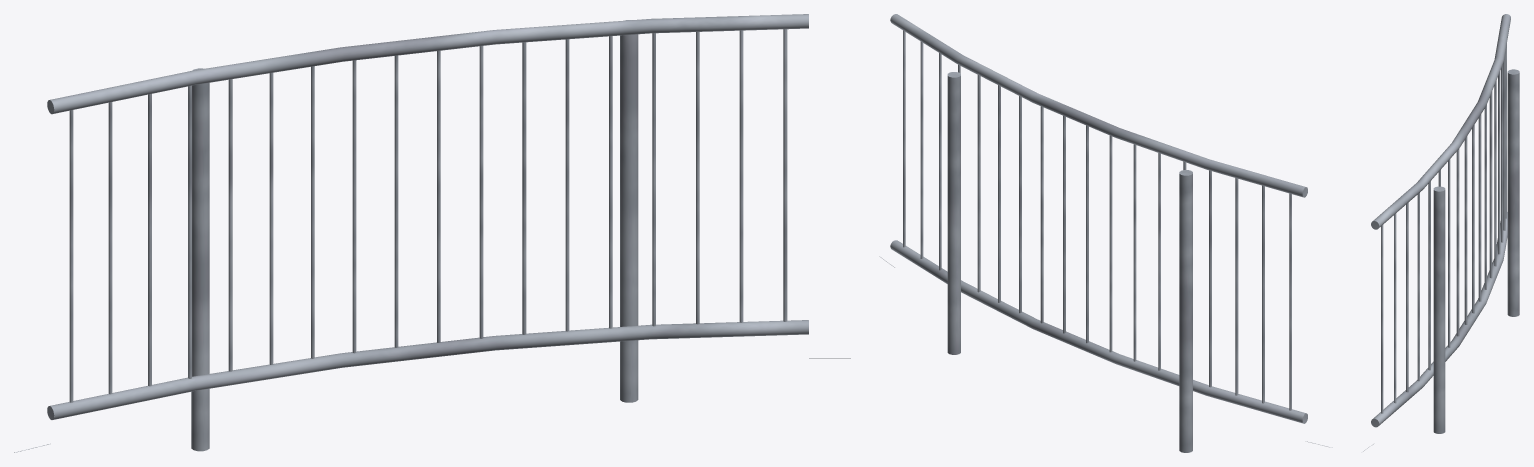
File: gelaender-sger-150.gltf
3 views of the same model, side by side, from view 1: azimuth 30°, elevation 25°; view 2: azimuth 150°, elevation 25°; view 3: azimuth 270°, elevation 25° (orthographic). The views are drawn at different scales.
Visible parts, largest first — view 1: SK1545_Geländer-SGER-150.001; view 2: SK1545_Geländer-SGER-150.001; view 3: SK1545_Geländer-SGER-150.001.
Part boxes in pixels (bbox=[...]): SK1545_Geländer-SGER-150.001: bbox=[14, 14, 850, 452]; SK1545_Geländer-SGER-150.001: bbox=[879, 14, 1332, 452]; SK1545_Geländer-SGER-150.001: bbox=[1361, 14, 1519, 452].
Size of the model in its own units: 2.18 by 1.12 by 0.6396.
Materials: 2 (2 with a texture image).
